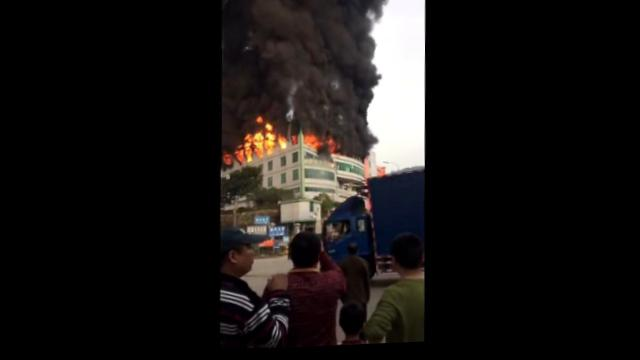fire: (302, 137, 320, 150), (244, 142, 251, 164), (253, 144, 262, 160), (264, 141, 273, 156), (234, 151, 244, 164), (278, 136, 286, 152), (222, 154, 232, 165), (326, 141, 334, 154), (253, 133, 262, 143), (264, 133, 275, 140), (290, 137, 297, 148), (245, 133, 252, 143), (264, 125, 272, 133), (256, 117, 263, 125)
